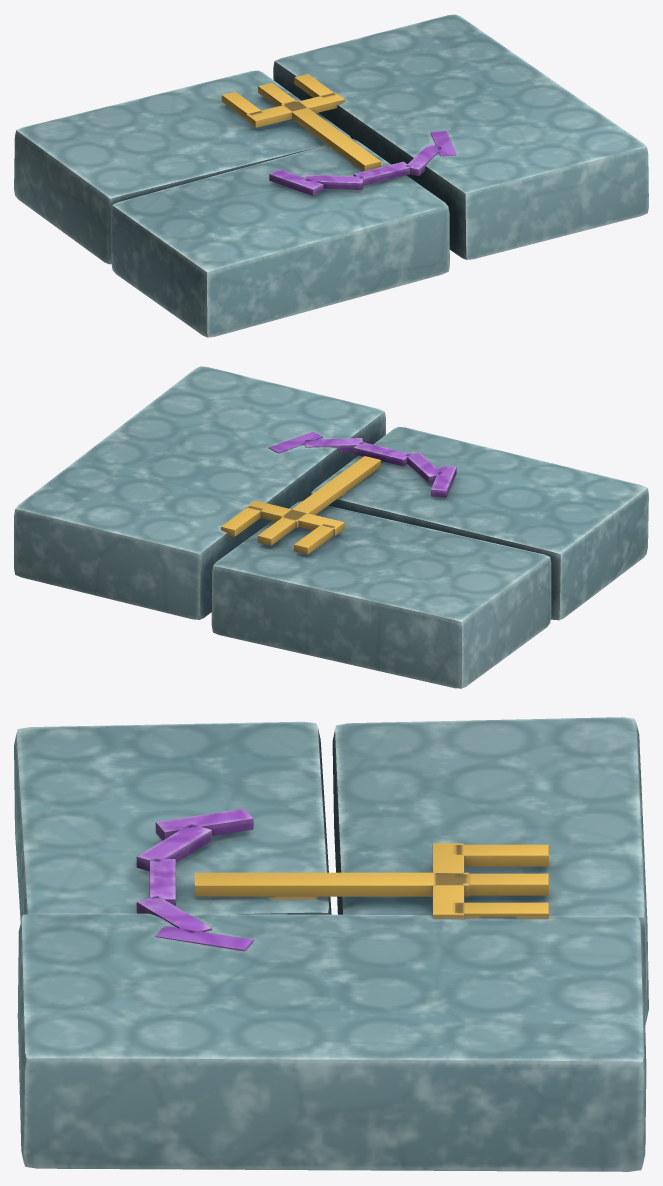
File: Abysses_Dalle.fbx
The picture shows the model from 3 angles, top to bottom: view 1: azimuth 30°, elevation 25°; view 2: azimuth 150°, elevation 25°; view 3: azimuth 270°, elevation 25°; orthographic projection. The views are drawn at different scales.
Visible parts, largest first — view 1: Abysses_Dalle; view 2: Abysses_Dalle; view 3: Abysses_Dalle.
Part boxes in pixels (x1,y1,x2,y2): Abysses_Dalle: (14,14,648,337); Abysses_Dalle: (14,366,648,688); Abysses_Dalle: (14,717,648,1171).
Bounding box in the file's own units: 807 × 145 × 600.
Materials: 1 (1 with a texture image).
